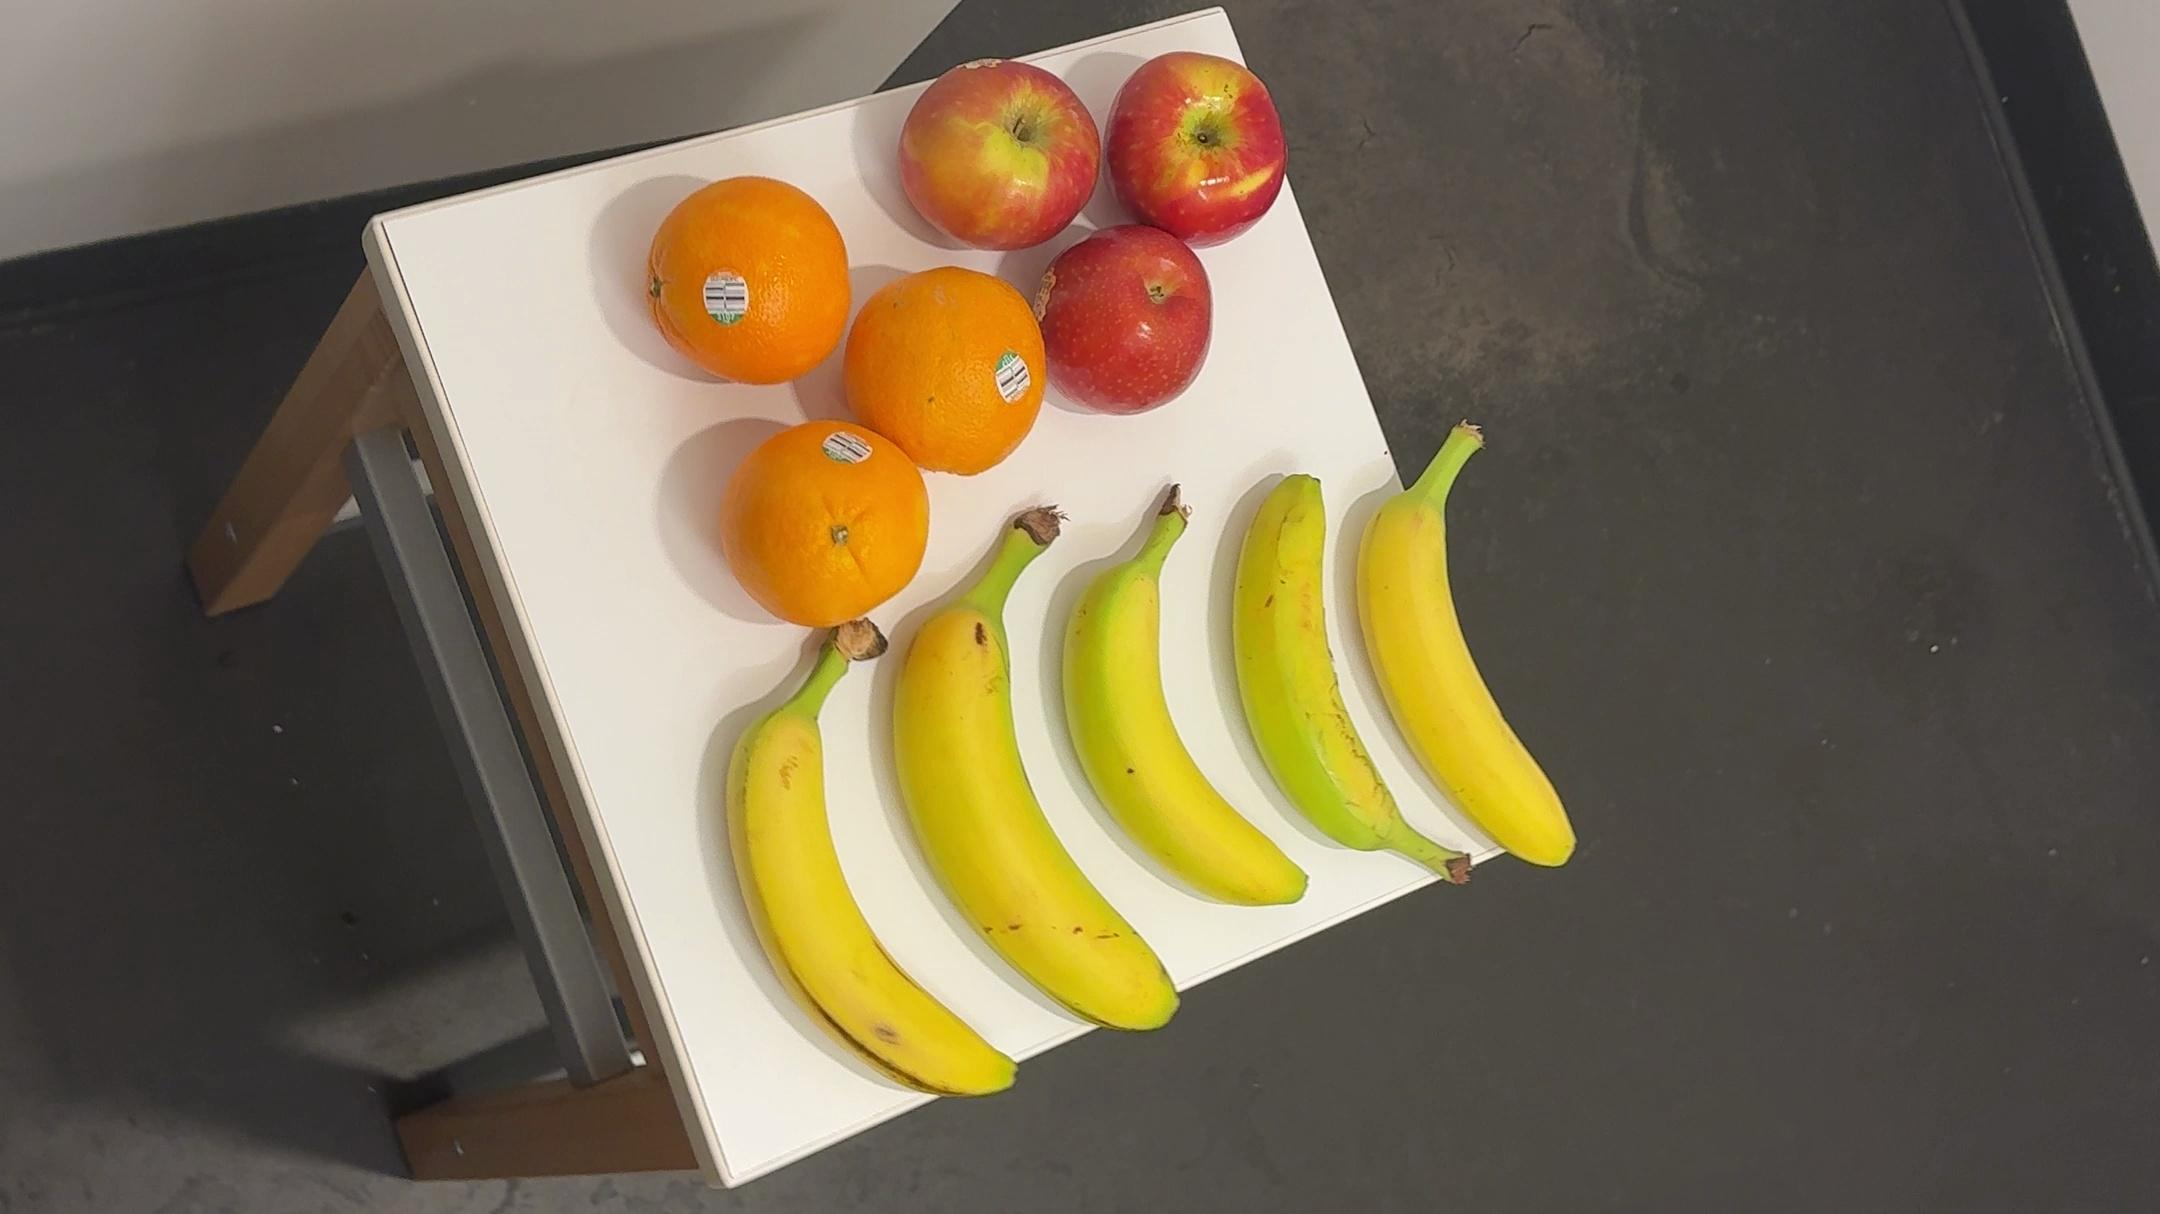apple: (899, 56, 1093, 254), (1101, 50, 1292, 251), (1044, 227, 1219, 414)
banana: (887, 503, 1196, 1039), (721, 620, 1027, 1100), (1227, 463, 1481, 899), (1354, 411, 1586, 874), (1070, 479, 1305, 923)
orange: (645, 174, 856, 387), (852, 272, 1053, 482), (727, 419, 927, 623)
